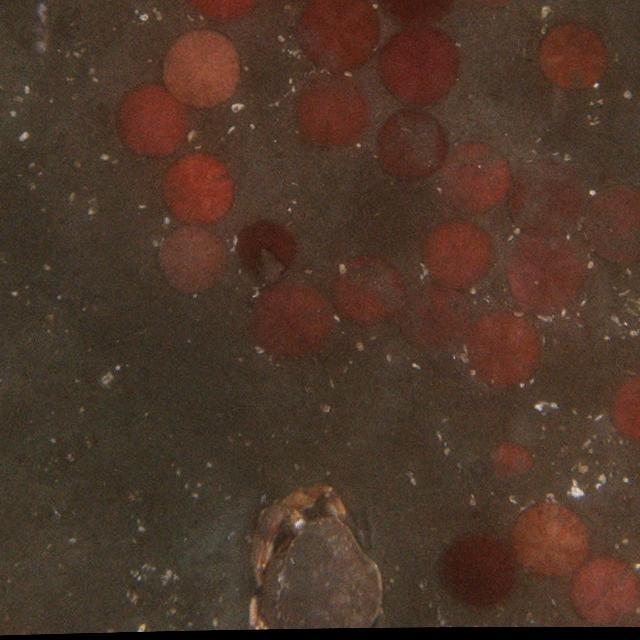crab: (248, 486, 383, 626)
